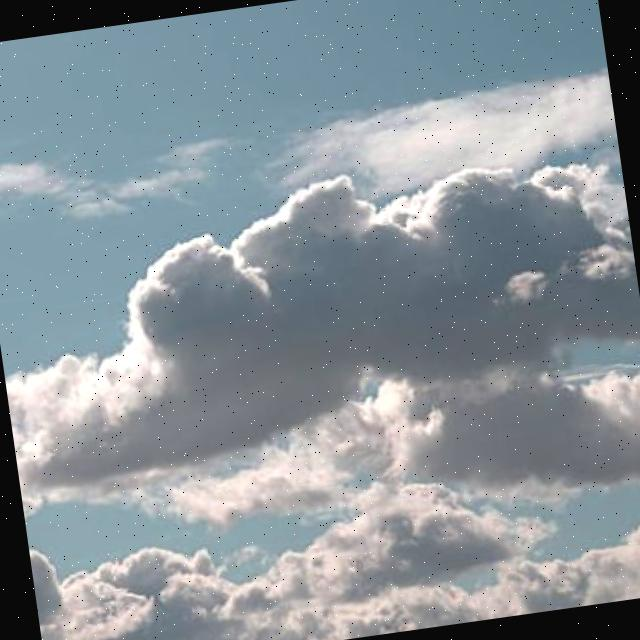As: (1, 121, 640, 522)
